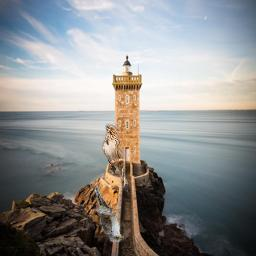Cuckoo: (94, 184, 125, 243)
Sparrow: (102, 124, 128, 193)
